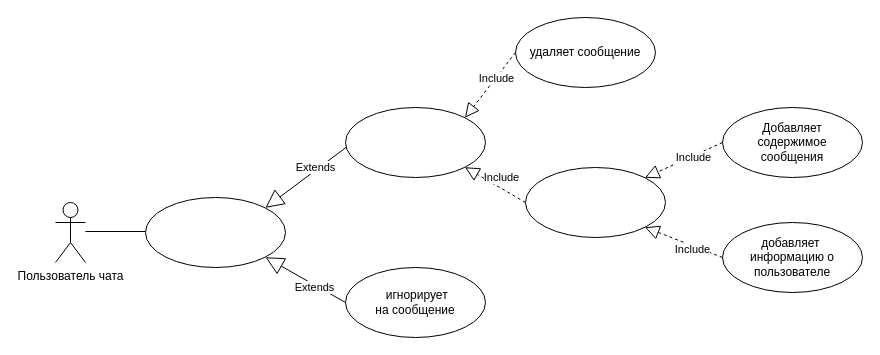
Image size: 880x355. Some labels were removed from this diagram. The shapes that lost their labels are listed below. From the top down, each one's centre as x and y in pixels, then its label:
At (415,142): "реагирует на сообщение".
At (595,202): "добавляет в базу данных информацию".
At (215,232): "О тправляет сообщение".
